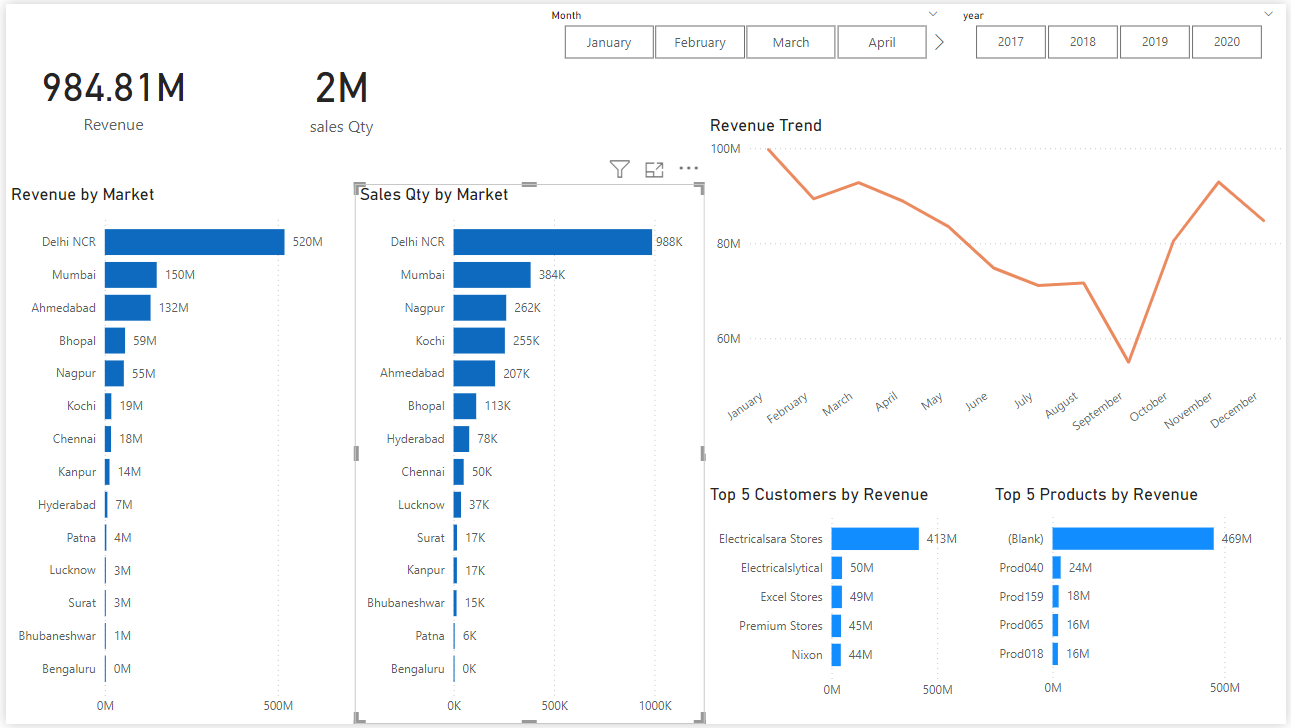

What the dashboard file says about the page in this screenshot:
{"tool":"powerbi","page":{"name":"Sales Dashboard","canvas":[1280,720],"ordinal":0},"visuals":[{"type":"card","fields":{"Values":["BaseMeasures.Revenue"]},"box":[0,0,215.4,179.8],"z":0},{"type":"card","fields":{"Values":["BaseMeasures.sales Qty"]},"box":[215,0,241.2,180],"z":1},{"type":"barChart","title":"Revenue by Market","fields":{"Y":["BaseMeasures.Revenue"],"Category":["sales markets.markets_name"]},"box":[0,179.8,348.5,540.5],"z":2},{"type":"barChart","title":"Sales Qty by Market","fields":{"Y":["BaseMeasures.sales Qty"],"Category":["sales markets.markets_name"]},"box":[348.5,179.8,349.7,540.5],"z":3},{"type":"slicer","fields":{"Values":["sales date.year"]},"box":[944,0,336.3,61.1],"z":4},{"type":"slicer","fields":{"Values":["sales date.cy_date.Variation.Date Hierarchy.Month"]},"box":[531.9,0,412.1,61.1],"z":5},{"type":"barChart","title":"Top 5 Customers by Revenue","fields":{"Y":["BaseMeasures.Revenue"],"Category":["sales customers.custmer_name"]},"box":[698.8,480,285,223.8],"z":6},{"type":"barChart","title":"Top 5 Products by Revenue","fields":{"Y":["BaseMeasures.Revenue"],"Category":["sales products.product_code"]},"box":[983.2,480.6,297.1,222.6],"z":7},{"type":"lineChart","title":"Revenue Trend","fields":{"Category":["sales date.cy_date.Variation.Date Hierarchy.Year","sales date.cy_date.Variation.Date Hierarchy.Quarter","sales date.cy_date.Variation.Date Hierarchy.Month","sales date.cy_date.Variation.Date Hierarchy.Day"],"Y":["BaseMeasures.Revenue"]},"box":[698.2,111.3,582.1,338.7],"z":8}]}

Visuals, with their boxes in screenshot pixels (x1, y1, x2, y2), scaled from the page's 1280x720 canvas onto the 1291x728 screenshot:
card - BaseMeasures.Revenue: (x1=0, y1=0, x2=217, y2=182)
card - BaseMeasures.sales Qty: (x1=217, y1=0, x2=460, y2=182)
"Revenue by Market" barChart: (x1=0, y1=182, x2=351, y2=727)
"Sales Qty by Market" barChart: (x1=351, y1=182, x2=704, y2=727)
slicer - sales date.year: (x1=952, y1=0, x2=1290, y2=62)
slicer - sales date.cy_date.Variation.Date Hierarchy.Month: (x1=536, y1=0, x2=952, y2=62)
"Top 5 Customers by Revenue" barChart: (x1=705, y1=485, x2=992, y2=712)
"Top 5 Products by Revenue" barChart: (x1=992, y1=486, x2=1290, y2=711)
"Revenue Trend" lineChart: (x1=704, y1=113, x2=1290, y2=455)
